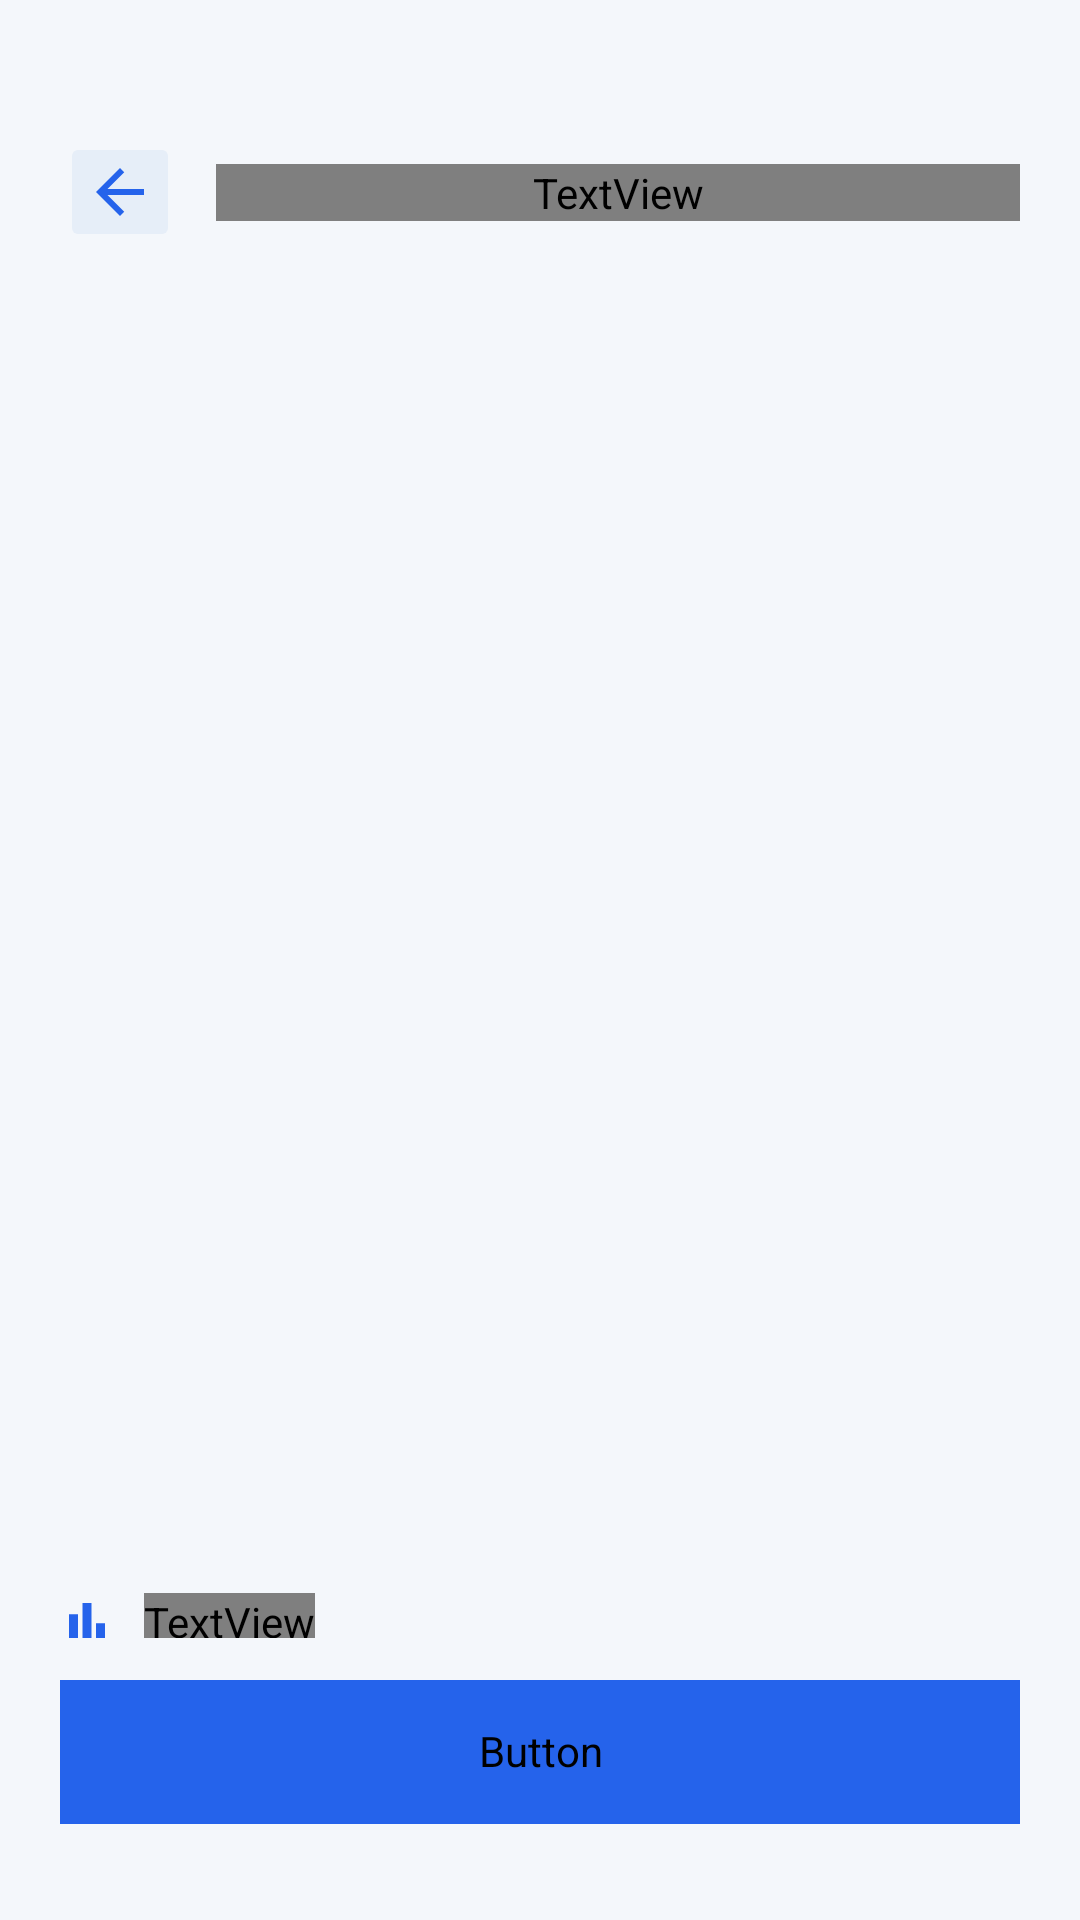

Icon click points for this 1080 x 1920 phone screenshot, format point (x, y):
arrow back: point (120, 192)
